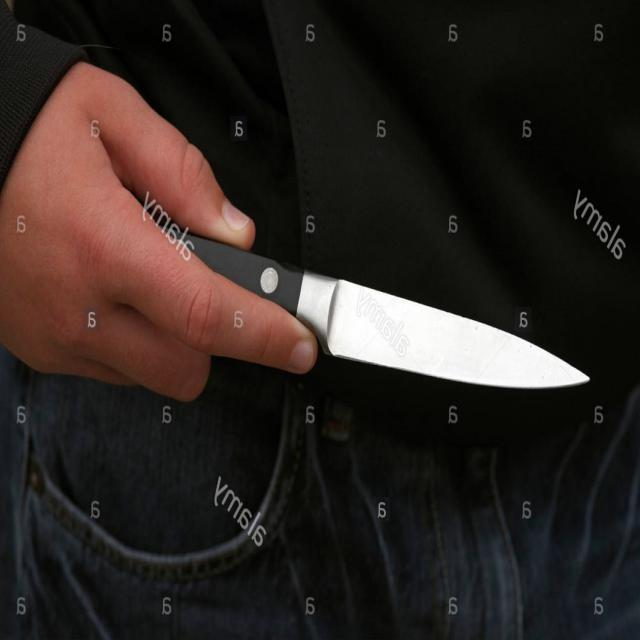Knife: (180, 234, 589, 388)
Knife_Handle: (0, 59, 591, 410)
